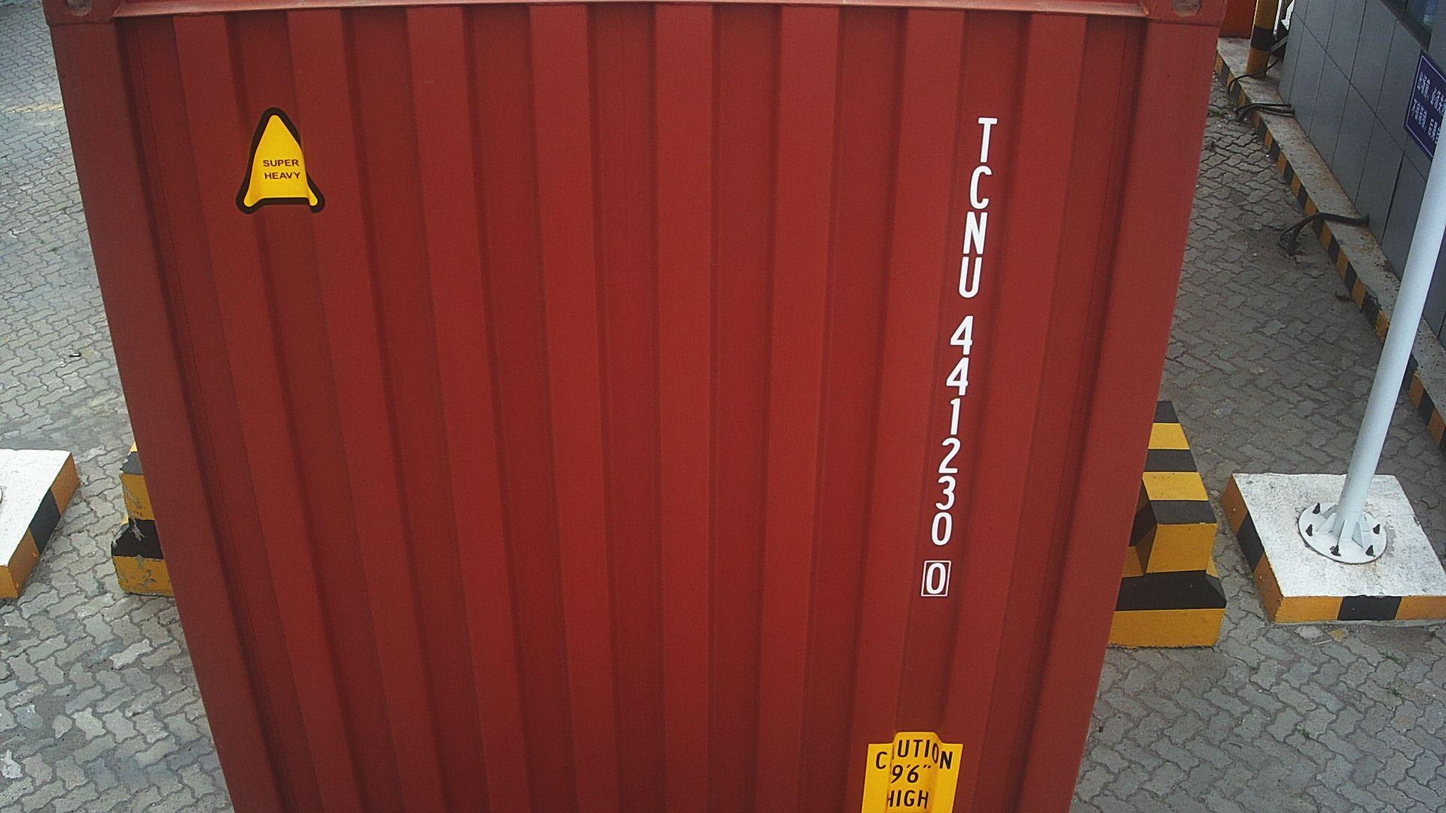container-numbers: (917, 110, 1000, 601)
